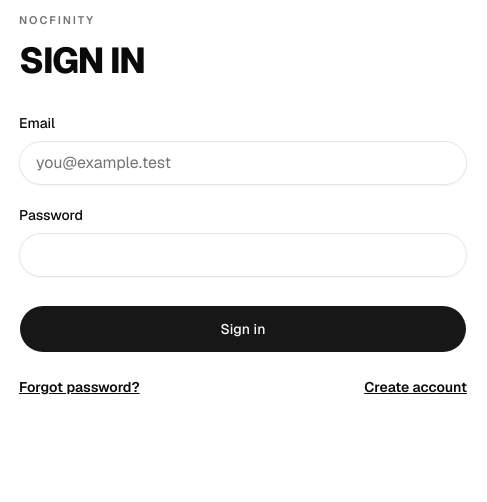
LoginForm › shows the API message and field errors
This screenshot has width=487, height=502.
Type "ada@example.test" into the field labelled "Email" at point(243, 162), box [19,140,467,184]
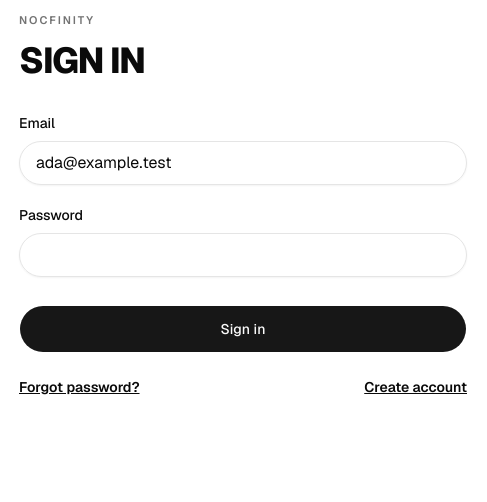
Type "wrong" into the password field labelled "Password" at point(243, 254), box [19,232,467,276]
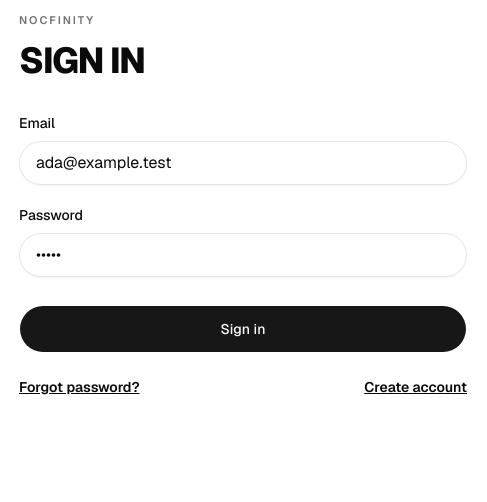
Click the button "Sign in" at point(243, 328), box [19,304,467,352]
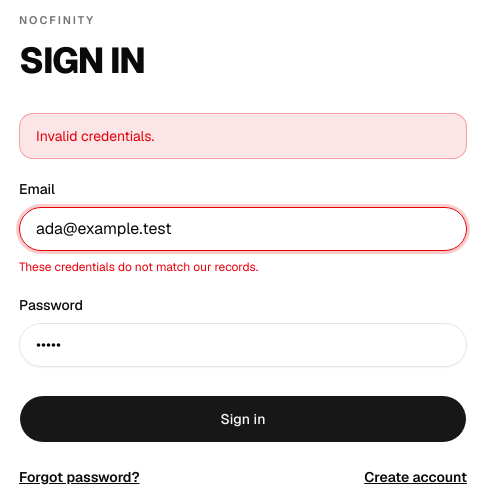
Now the message reads "Invalid credentials.", box [36,126,154,144]
Now the text "These credentials do not match our records." is shown, box [19,258,258,274]
